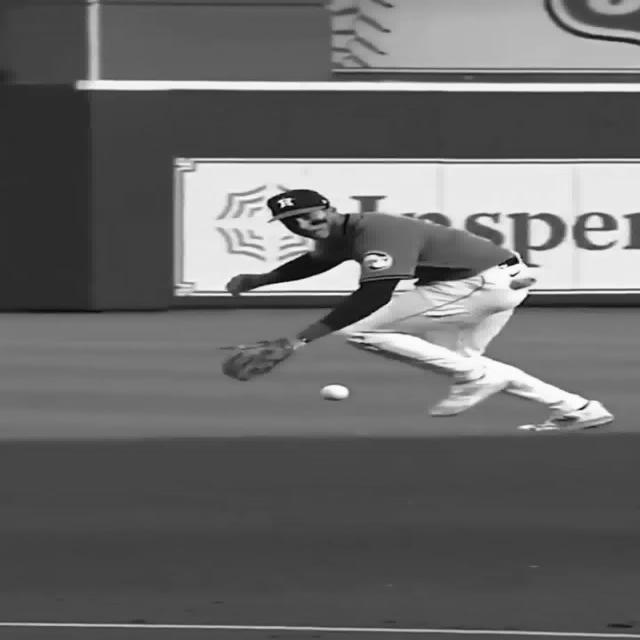baseball: (320, 384, 350, 401)
baseball_glove: (218, 336, 308, 381)
shoe: (428, 370, 510, 417), (516, 399, 614, 432)
